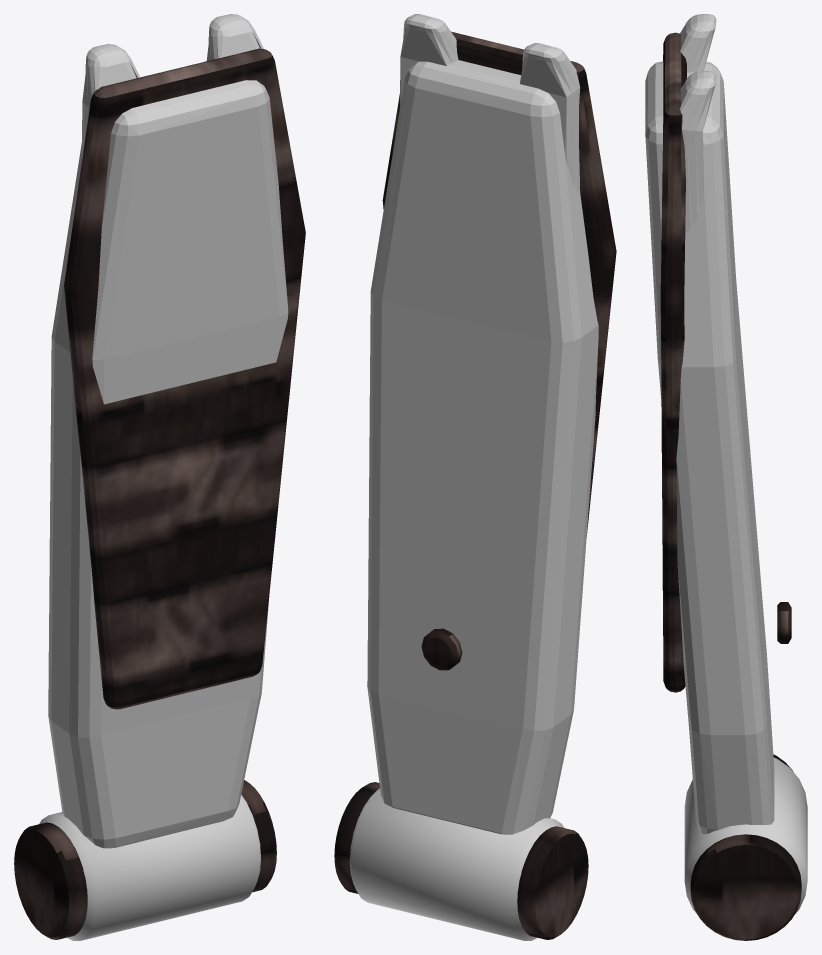
File: EldritchCannonFoot.obj
3 renders of one model, left to right at view 1: azimuth 30°, elevation 25°; view 2: azimuth 150°, elevation 25°; view 3: azimuth 270°, elevation 25°, orthographic. The views are drawn at different scales.
Visible parts, largest first — view 1: EldritchCannonFoot; view 2: EldritchCannonFoot; view 3: EldritchCannonFoot.
Part boxes in pixels (<box>): EldritchCannonFoot: <box>14,14,305,940</box>; EldritchCannonFoot: <box>334,14,616,940</box>; EldritchCannonFoot: <box>645,14,807,940</box>.
Bounding box in the file's own units: 0.31 × 1.12 × 0.1926.
